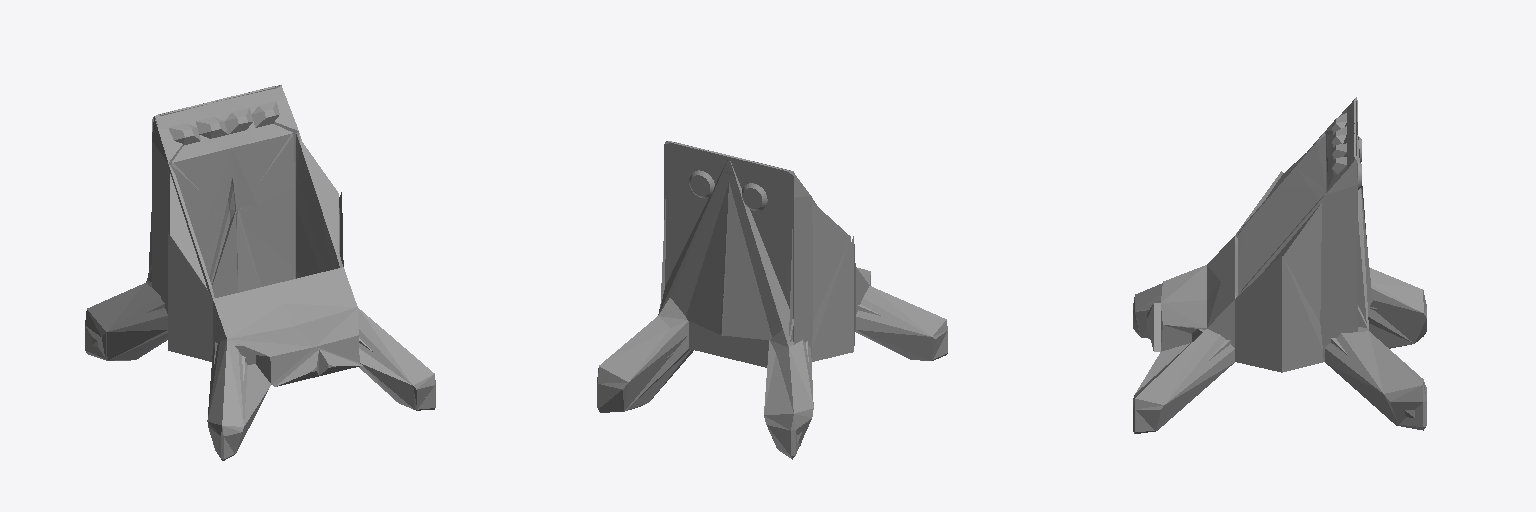
The model's file is hermes.obj.
3 views of the same model, side by side, from view 1: azimuth 30°, elevation 25°; view 2: azimuth 150°, elevation 25°; view 3: azimuth 270°, elevation 25° (orthographic).
Visible parts, largest first — view 1: Hermes_Cube.001; view 2: Hermes_Cube.001, Circle; view 3: Hermes_Cube.001.
Boxes of the visible parts, box(x1,y1,x2,y2) form: Hermes_Cube.001: box(85, 85, 435, 460); Hermes_Cube.001: box(597, 141, 947, 459); Circle: box(689, 170, 767, 210); Hermes_Cube.001: box(1133, 97, 1426, 433).
Size of the model in its own units: 6.57 by 7.46 by 7.79.